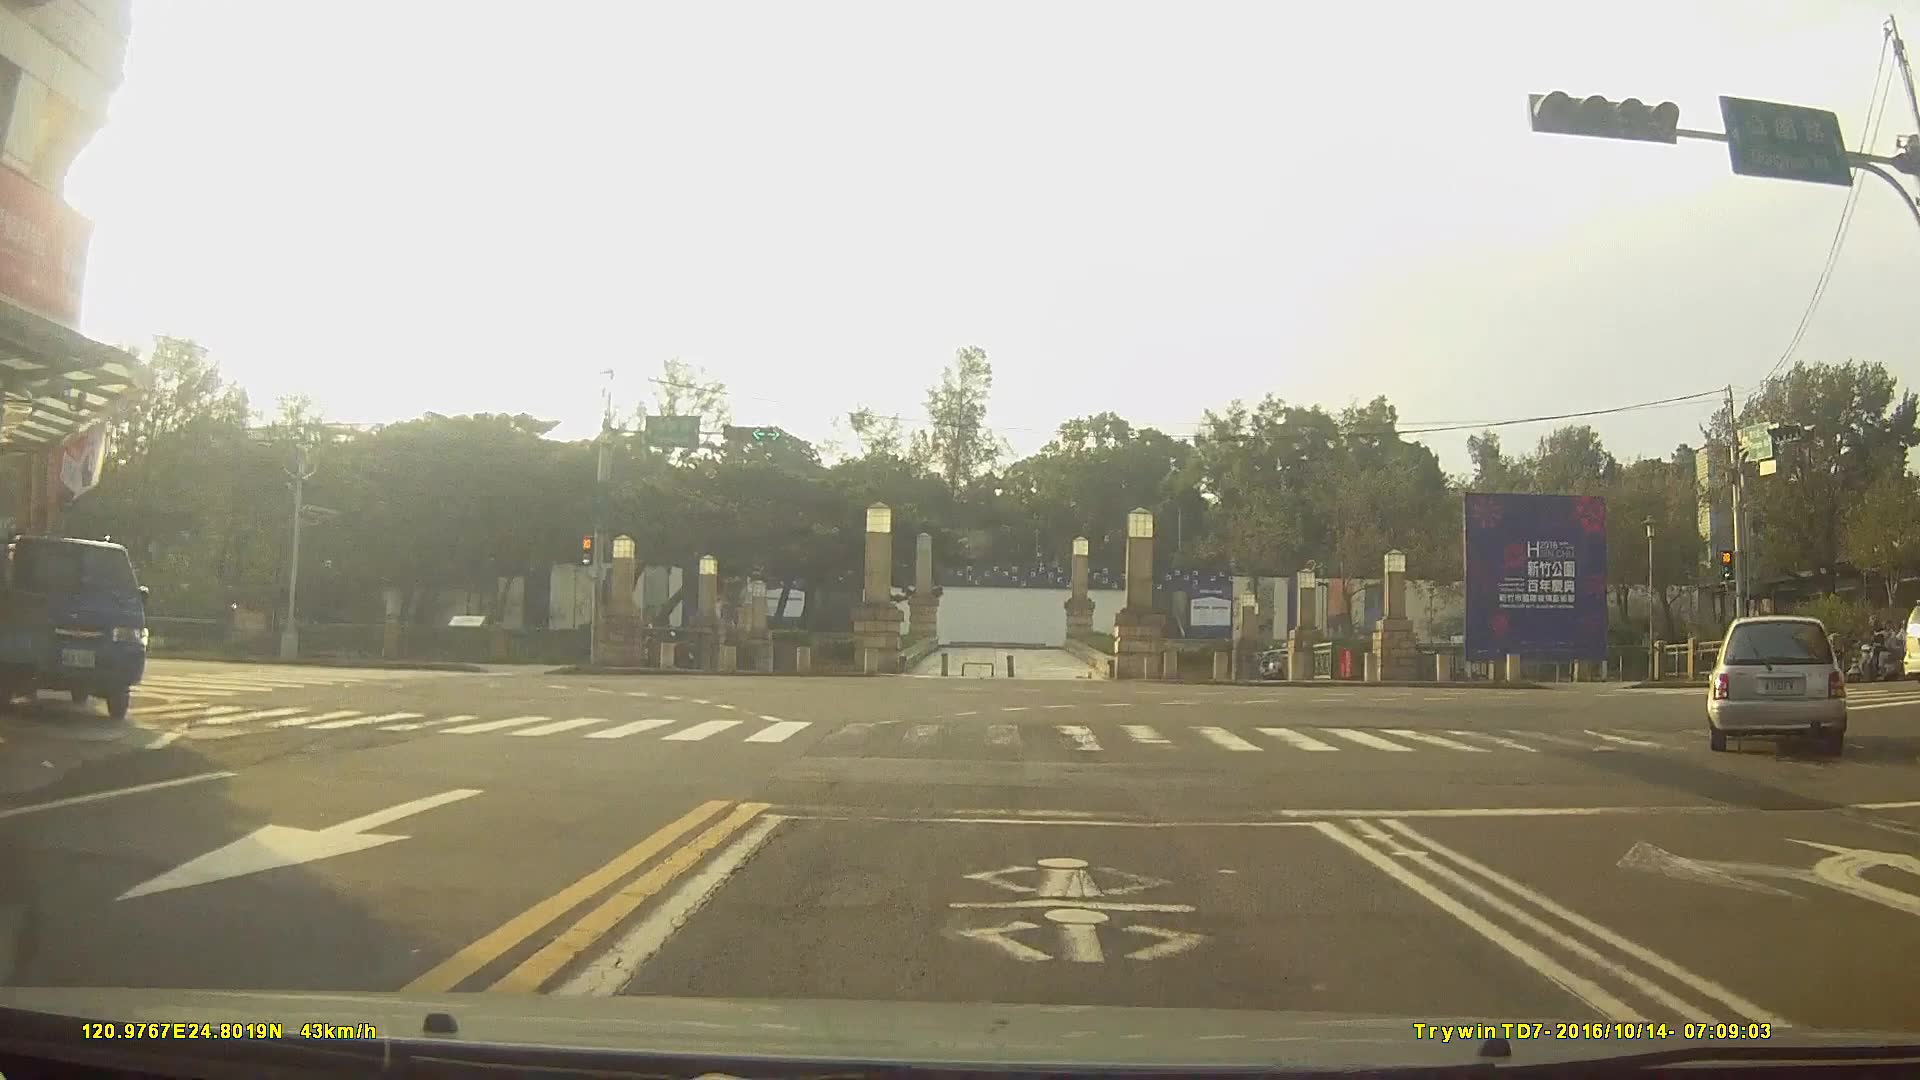vehicle: (0, 530, 146, 720), (1705, 612, 1849, 752)
